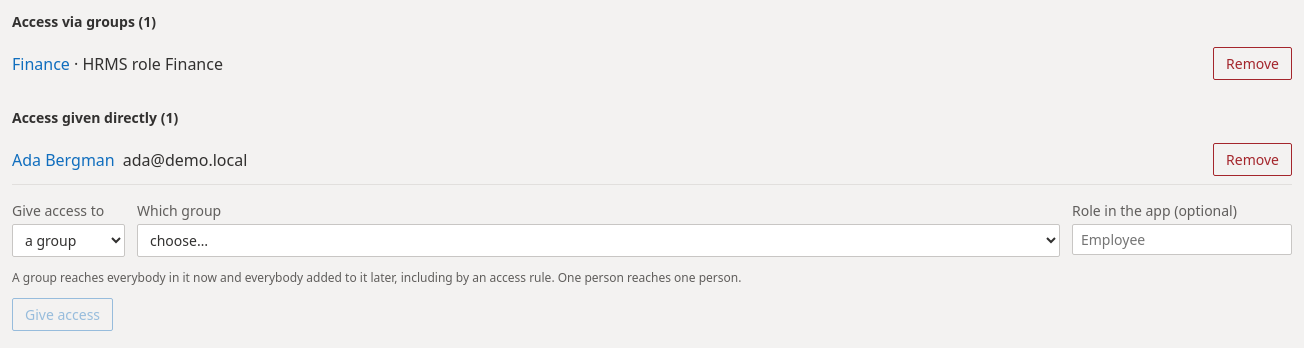
Test: choosing one person searches rather than listing everybody
This screenshot has width=1304, height=348.
Select "one person" in the dropdown labelled "Give access to" at (68, 240), box [12,224,125,257]
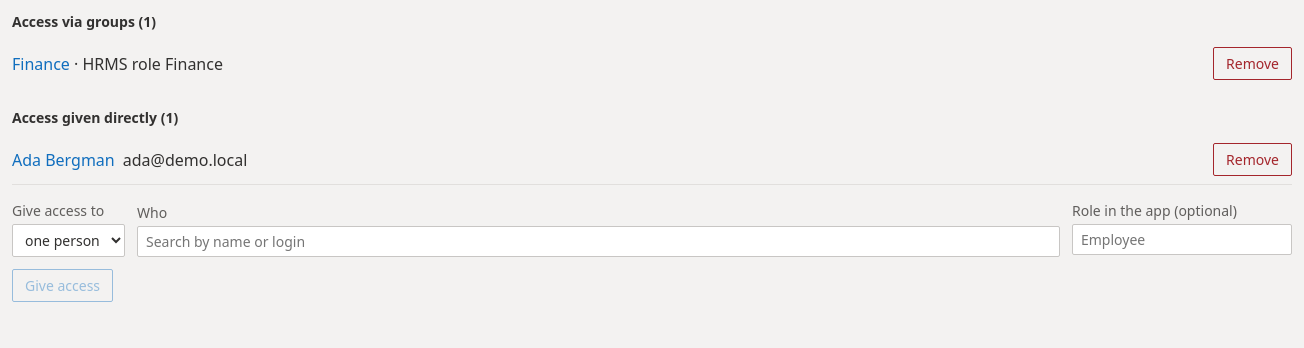
Type "ada" into the field labelled "Who" at (598, 242), box [137,226,1060,257]
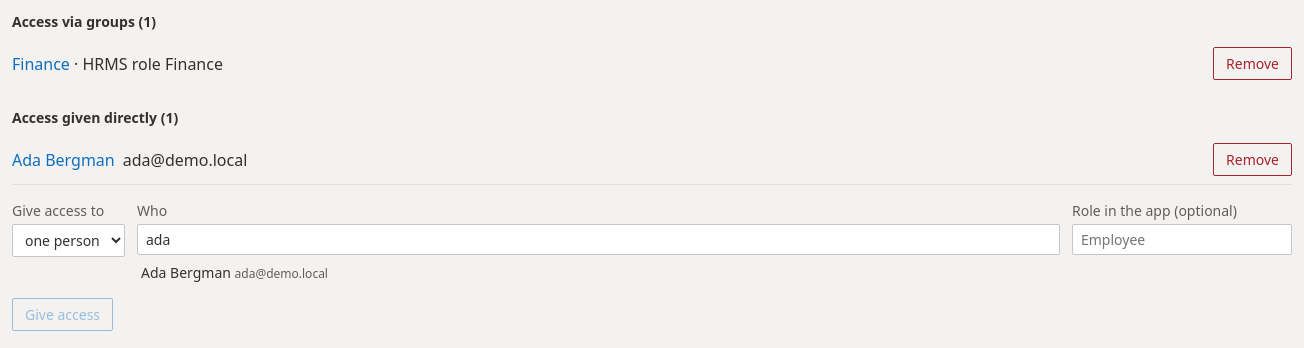
Check: the button "Ada Bergman ada@demo.local" is shown, box [137,259,1060,286]
